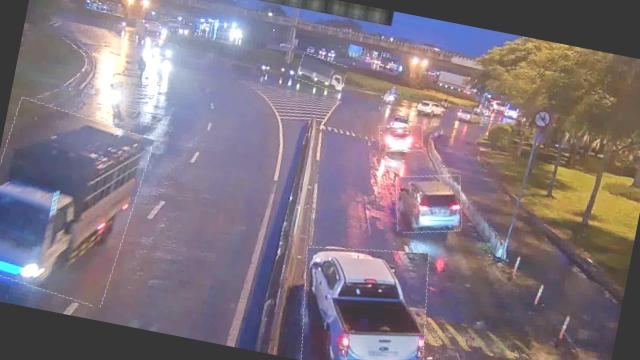Bike: (98, 78, 130, 125)
Car: (290, 235, 439, 360), (390, 167, 469, 240), (376, 119, 425, 156)
Truck: (0, 98, 151, 306), (295, 53, 348, 92)
